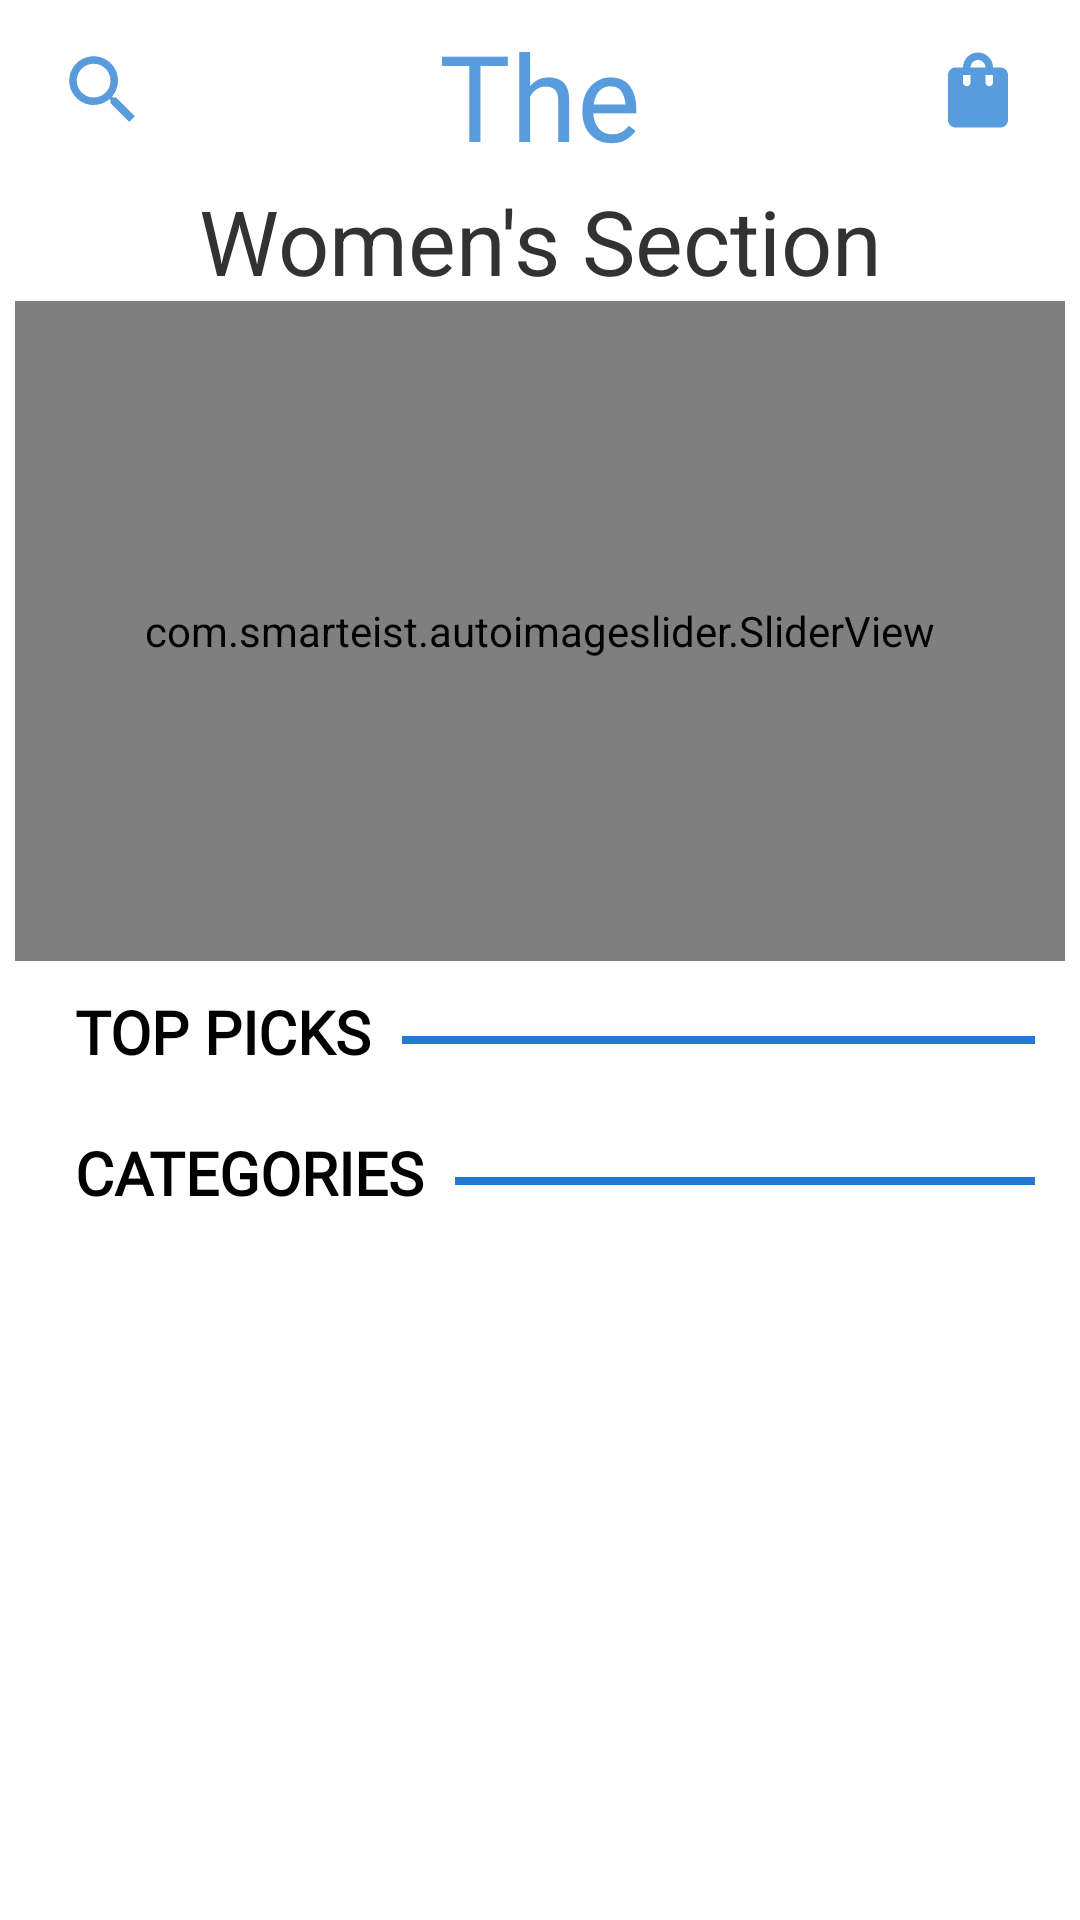

Icon bounding boxes for this 1080 × 1920 phone screenshot, format region(x1, y1, x2, y2):
search: region(69, 56, 135, 122)
shopping bag: region(948, 52, 1008, 128)
